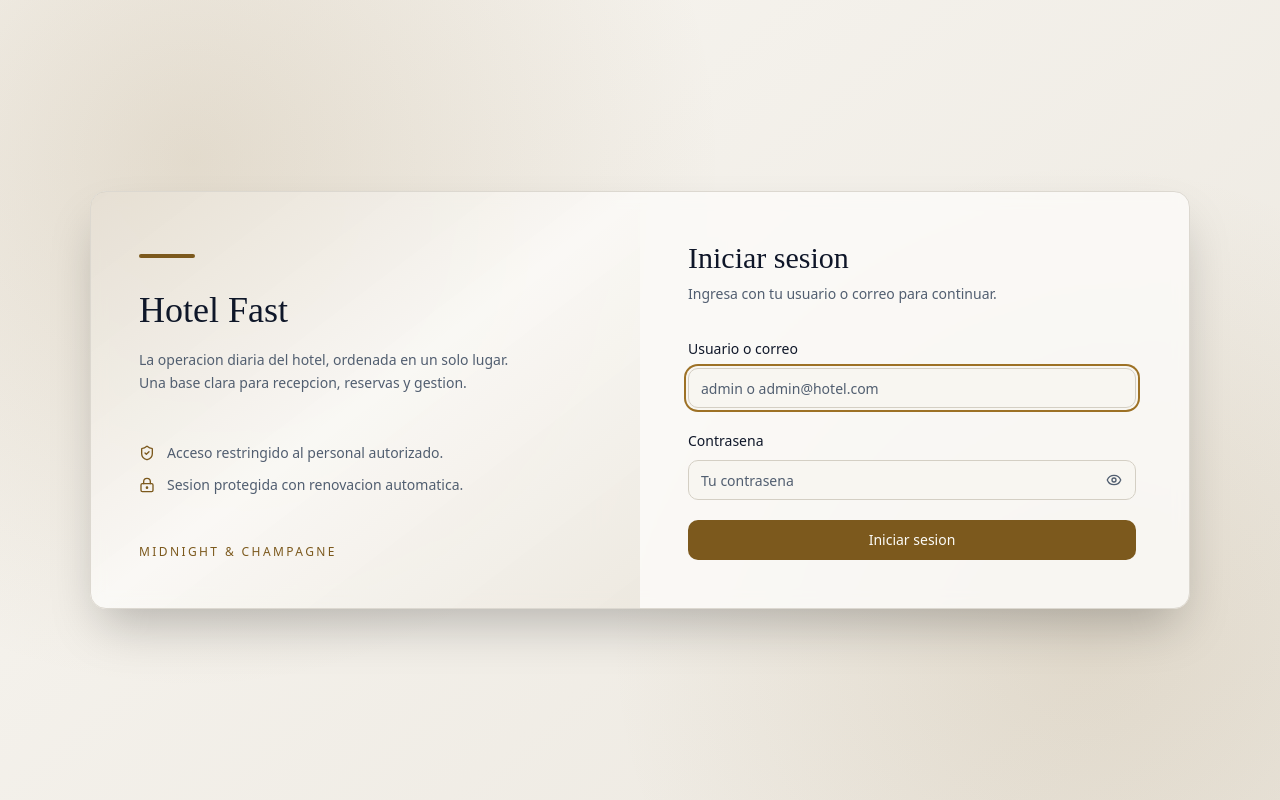
Test: flujo de login › muestra un mensaje de error cuando las credenciales son invalidas
In the field labelled "Usuario o correo": (912, 388) 688,368 -> 1136,408, type "admin@hotel.com"
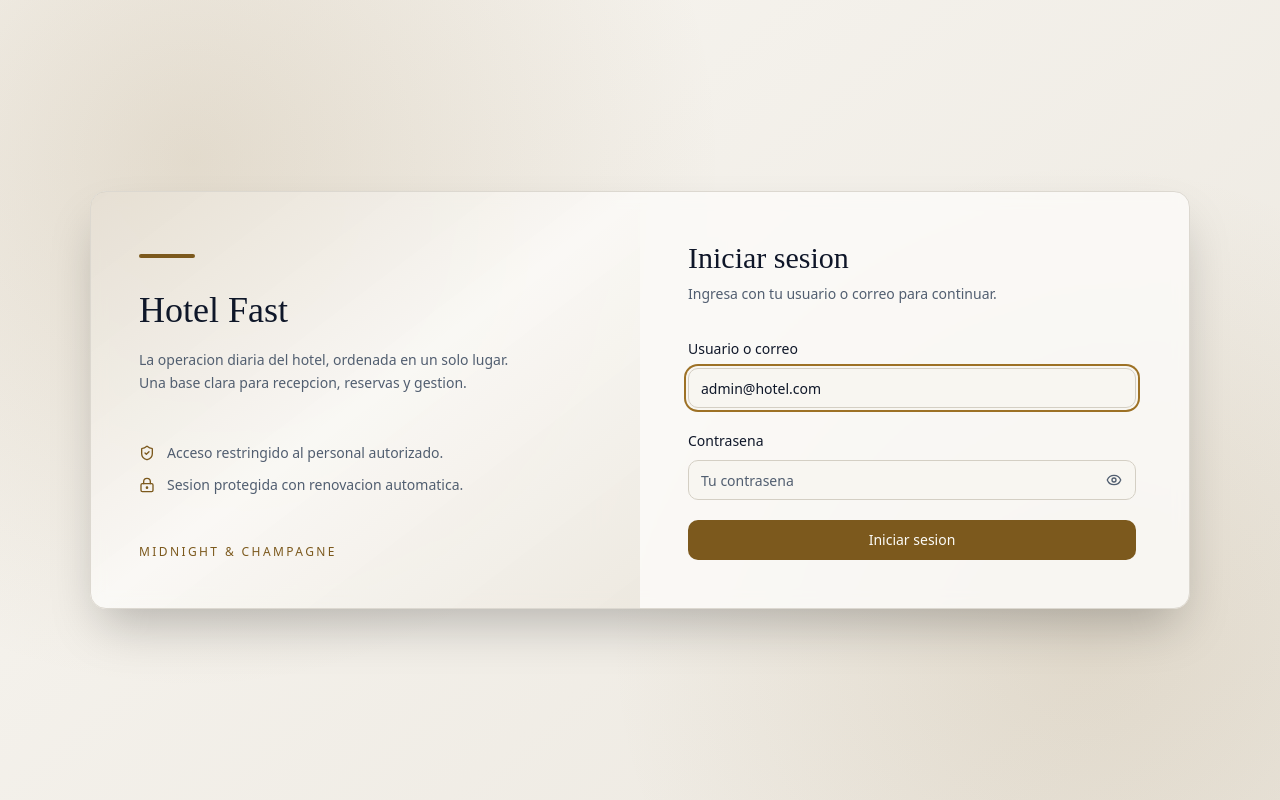
In the password field labelled "Contrasena": (912, 480) 688,460 -> 1136,500, type "mala"
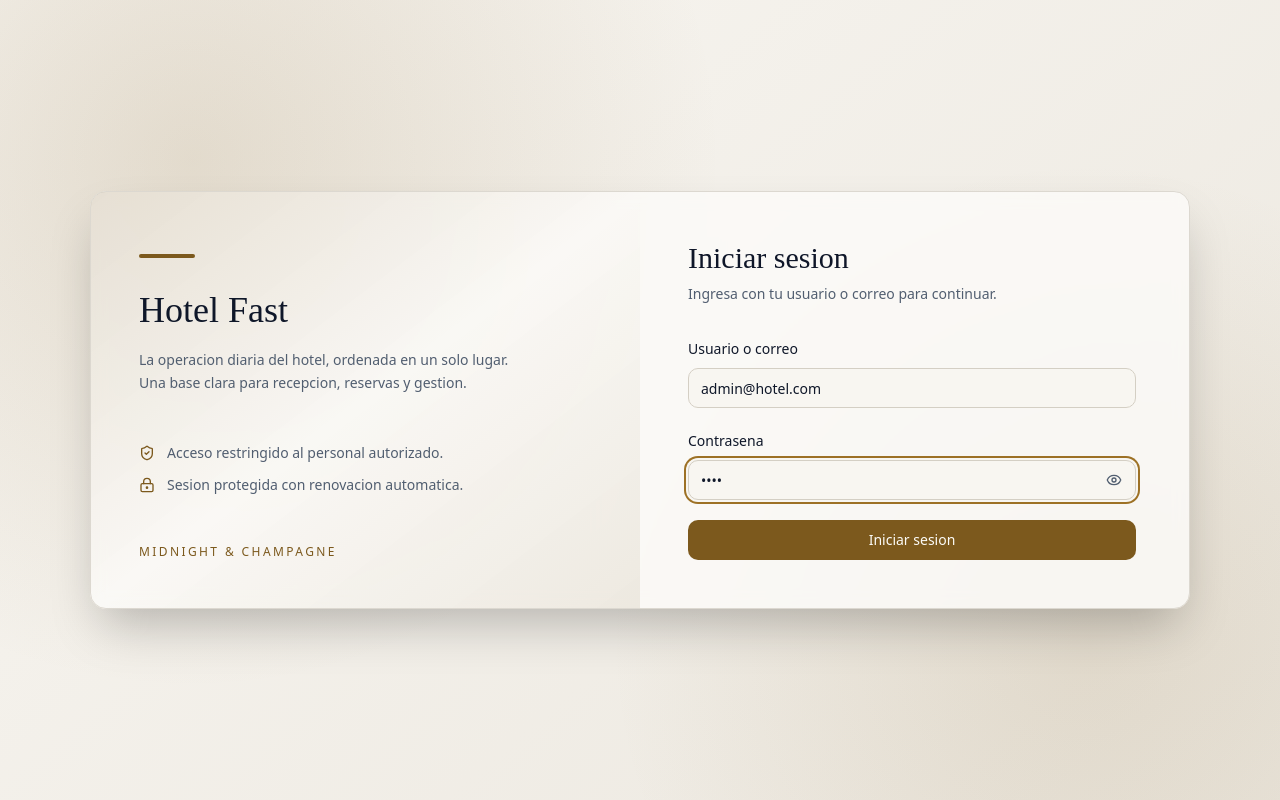
Click the button "Iniciar sesion": (912, 540) 688,520 -> 1136,560
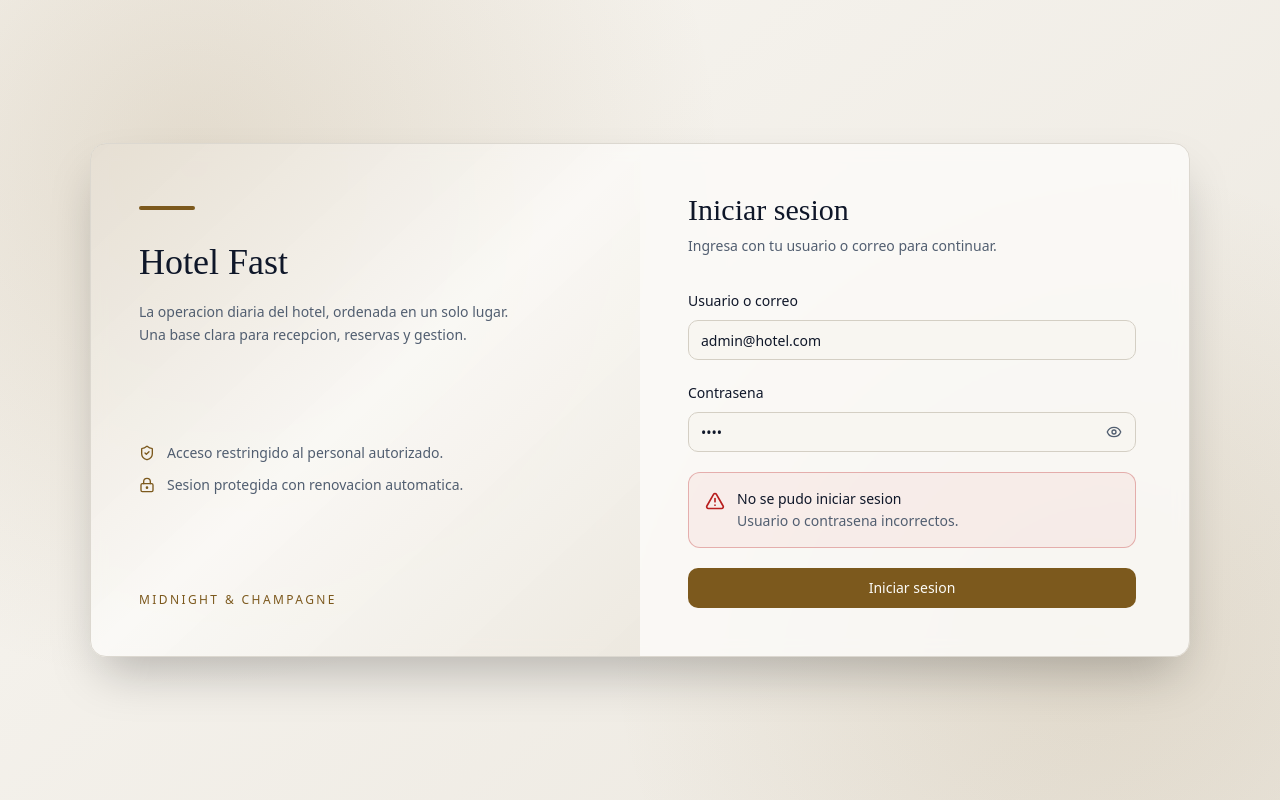
Expected: the text "Usuario o contrasena incorrectos." is shown, 737,511 -> 958,531
